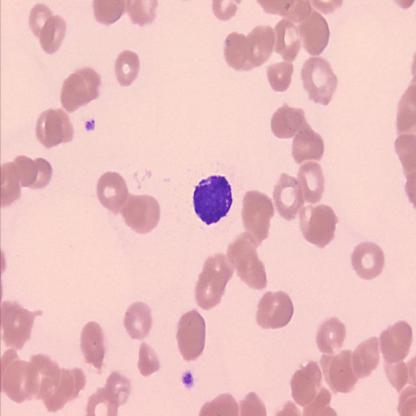Basophil: (191, 172, 234, 228)
